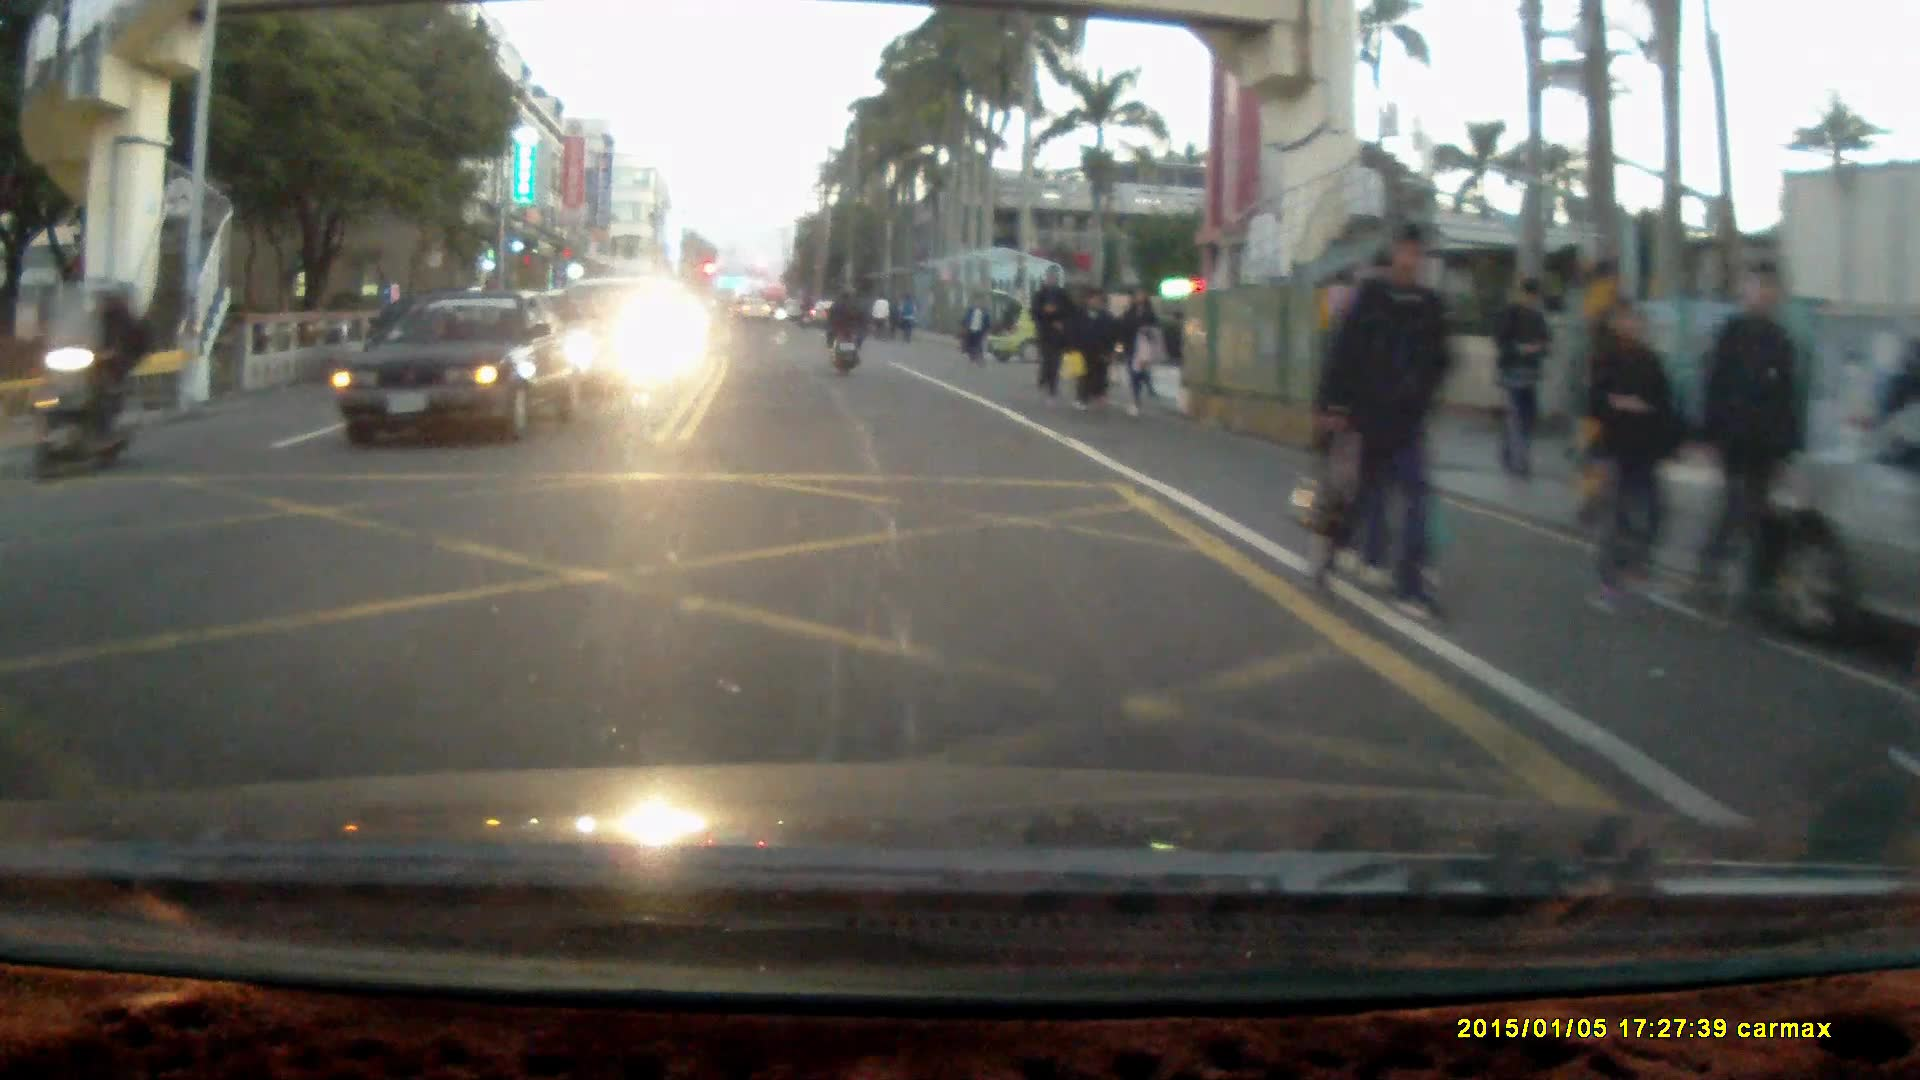pedestrian: (1337, 217, 1458, 630), (1700, 257, 1796, 642), (1588, 299, 1696, 638), (1489, 274, 1552, 488), (1026, 261, 1073, 403), (1114, 281, 1164, 415), (1069, 289, 1117, 411), (960, 292, 985, 365)
rider: (28, 272, 150, 483), (822, 285, 864, 379)
vehicle: (329, 297, 594, 449), (539, 277, 699, 402)
